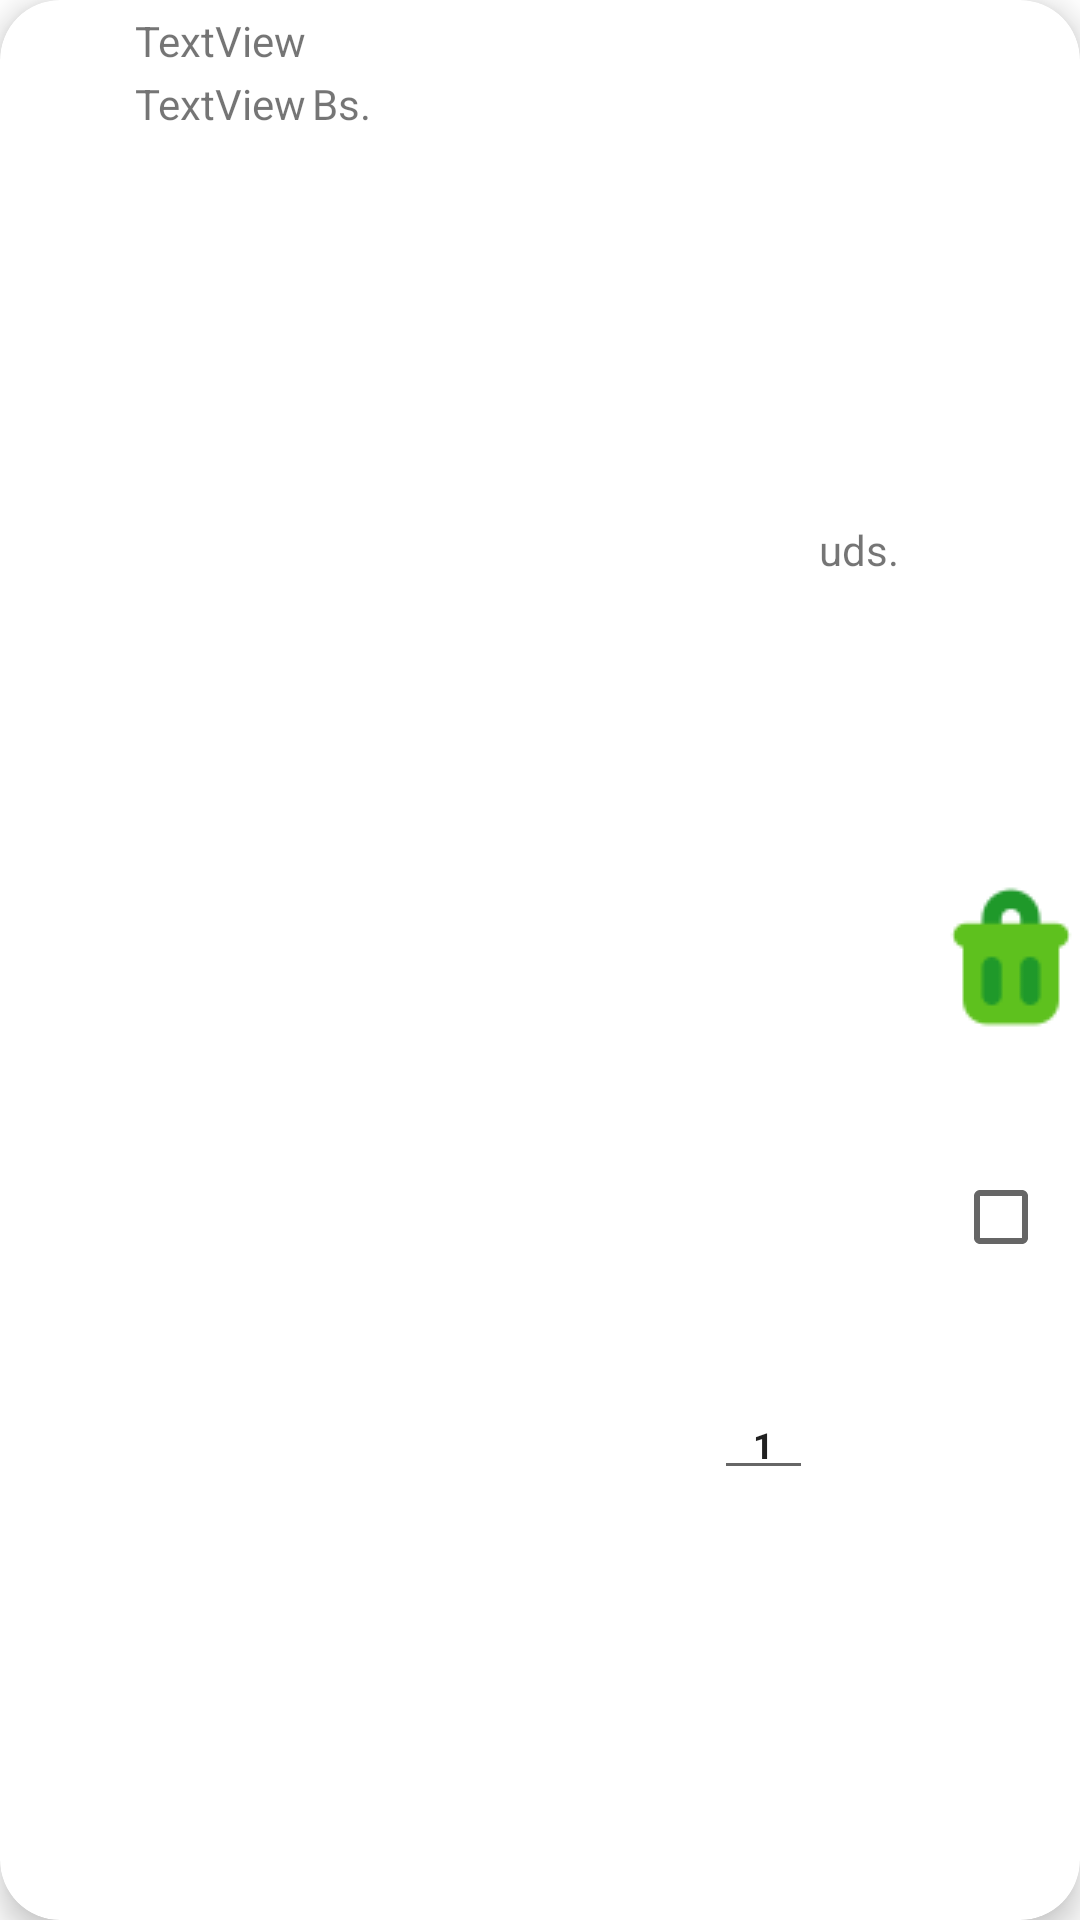

Screen size 1080*1920. Icon name, then its box in pixels as (x1, y1, x2, y2):
eliminar: (952, 887, 1070, 1027)
